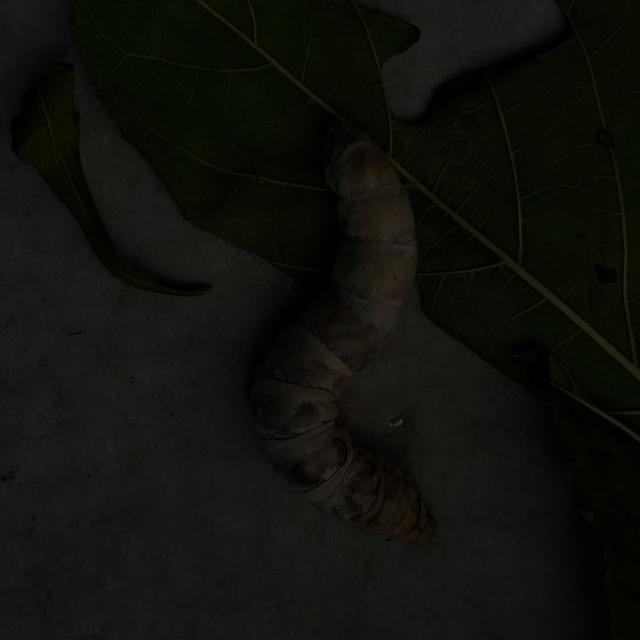Grasserie: (234, 109, 466, 550)
